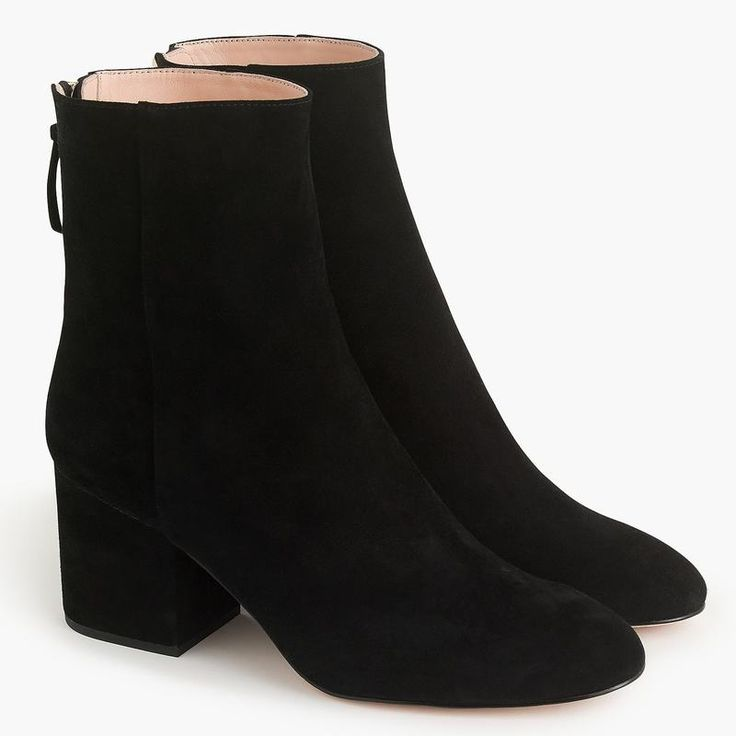gamuza: (45, 34, 708, 708)
